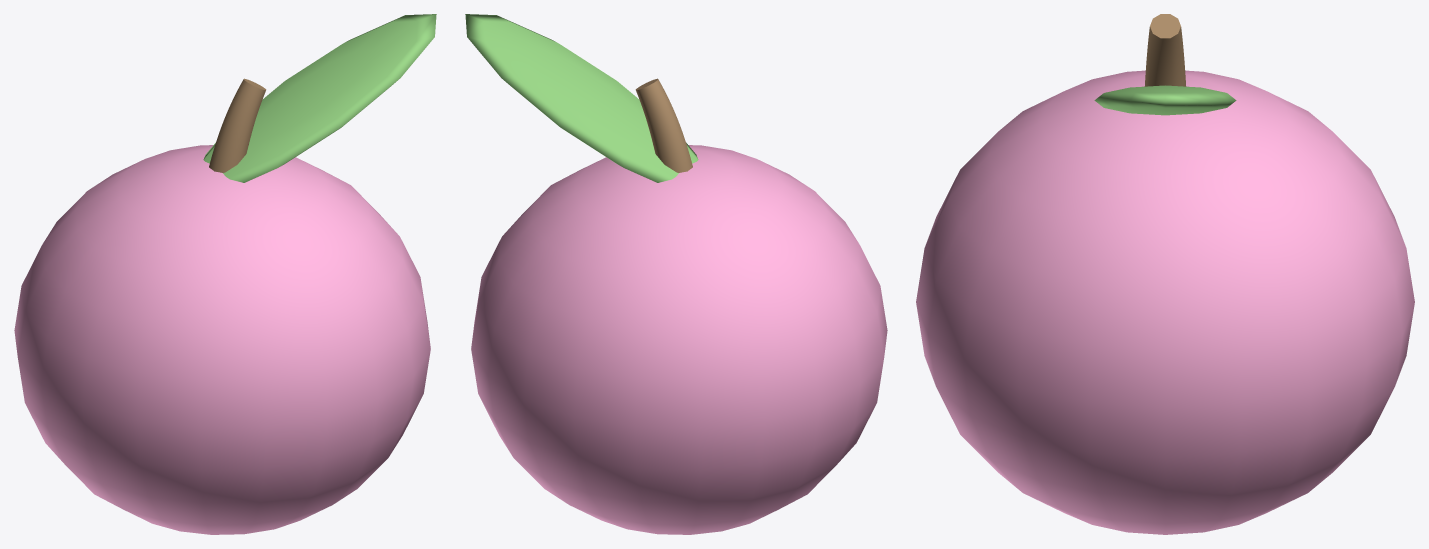
Rendered from OrchidFruit.fbx.
3 renders of one model, left to right at view 1: azimuth 30°, elevation 25°; view 2: azimuth 150°, elevation 25°; view 3: azimuth 270°, elevation 25°, orthographic. The views are drawn at different scales.
Parts seen in each view (by area): view 1: Handle, Leaf, Twig; view 2: Handle, Leaf, Twig; view 3: Handle, Leaf, Twig.
Part boxes in pixels (x1=…): Handle: x1=14, y1=145, x2=430, y2=534; Leaf: x1=203, y1=14, x2=436, y2=182; Twig: x1=209, y1=78, x2=266, y2=172; Handle: x1=471, y1=145, x2=887, y2=534; Leaf: x1=465, y1=14, x2=698, y2=182; Twig: x1=635, y1=78, x2=692, y2=172; Handle: x1=916, y1=70, x2=1414, y2=534; Leaf: x1=1094, y1=85, x2=1236, y2=115; Twig: x1=1144, y1=14, x2=1186, y2=86.
Size of the model in its own units: 1.22 by 1.32 by 1.12.
